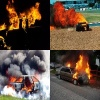fire: (0, 0, 41, 30), (5, 71, 43, 97), (52, 1, 88, 25), (73, 54, 92, 79), (0, 31, 11, 50), (66, 62, 71, 67), (50, 26, 56, 30), (84, 26, 86, 30)
